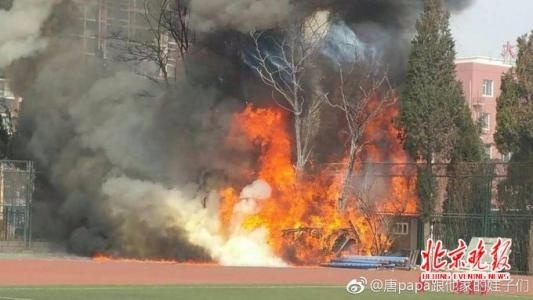fire: (216, 94, 425, 265)
